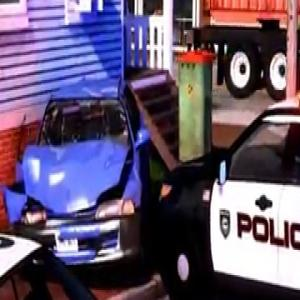moderate: (0, 63, 300, 300)
